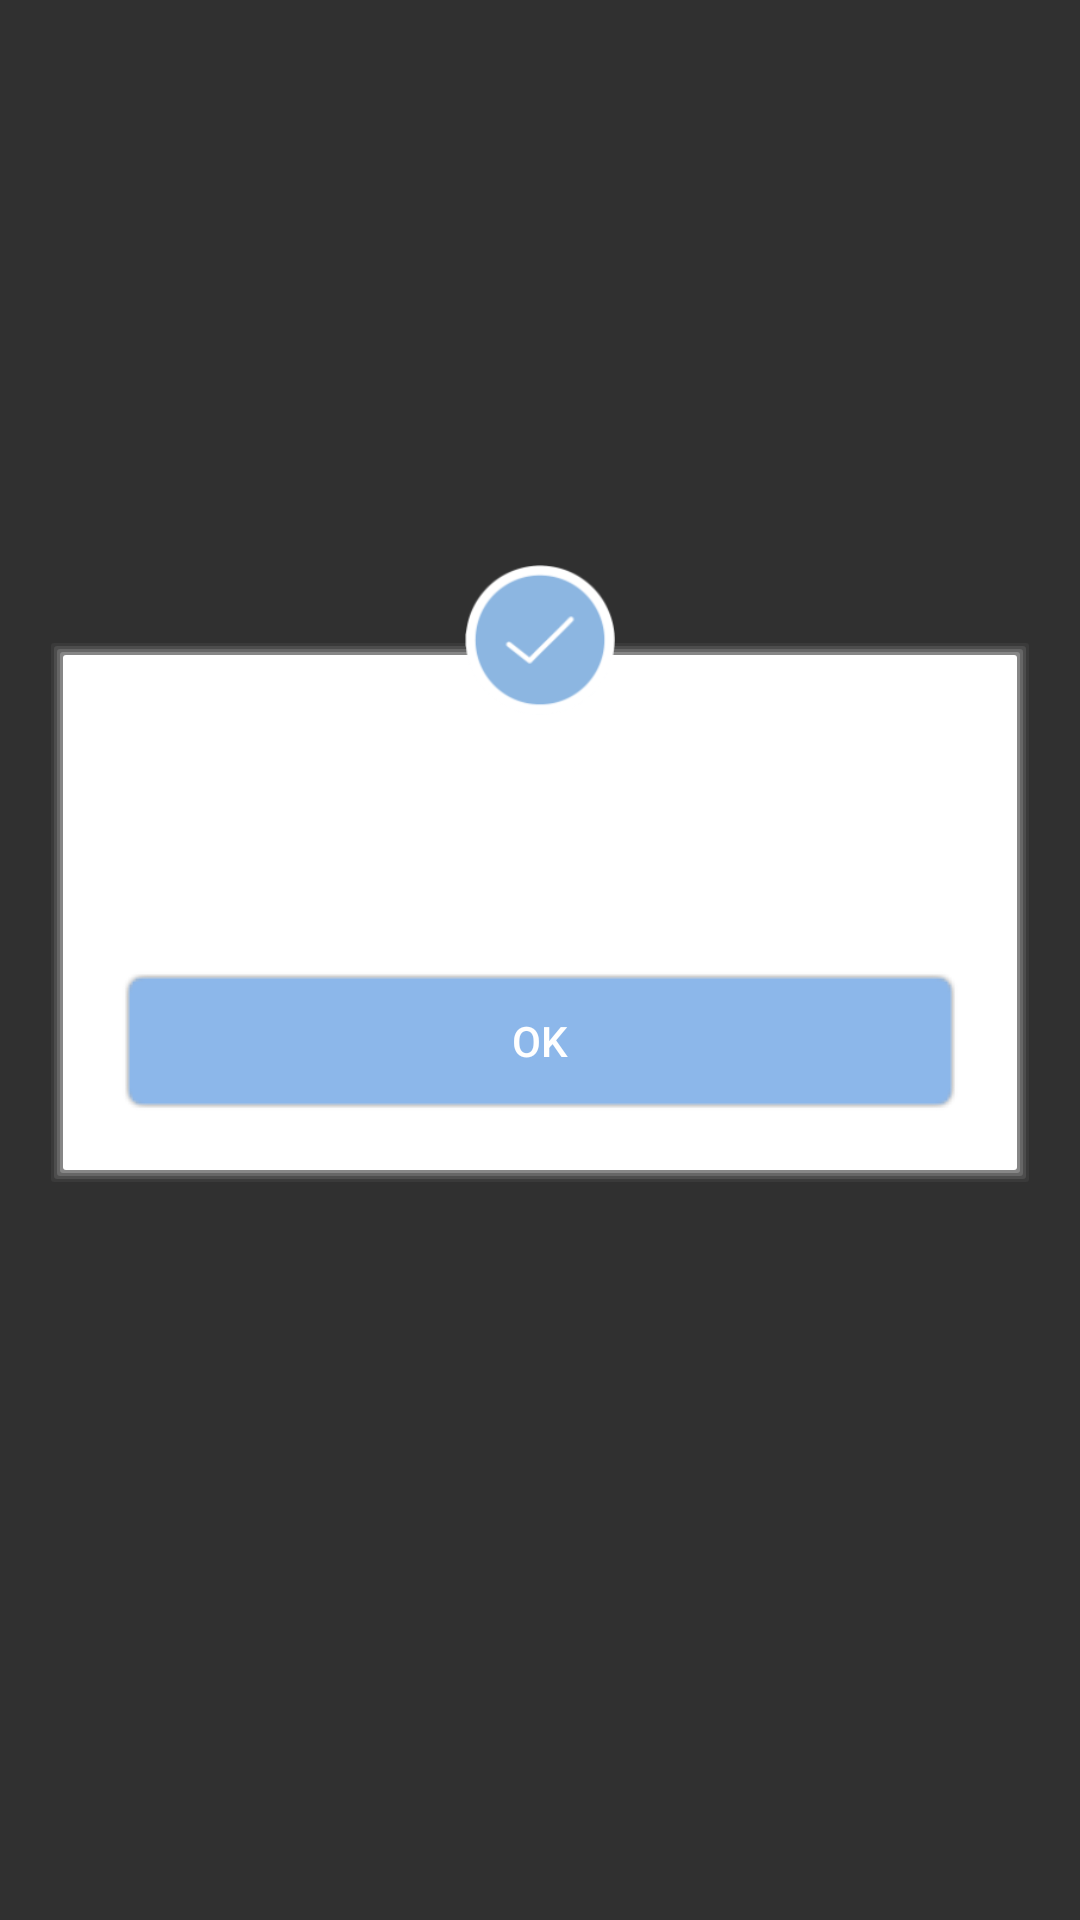

Icons on this 1080px×1920px Android screen, each with the point to tap as (x=x, y=y):
right circle: (x=540, y=640)
